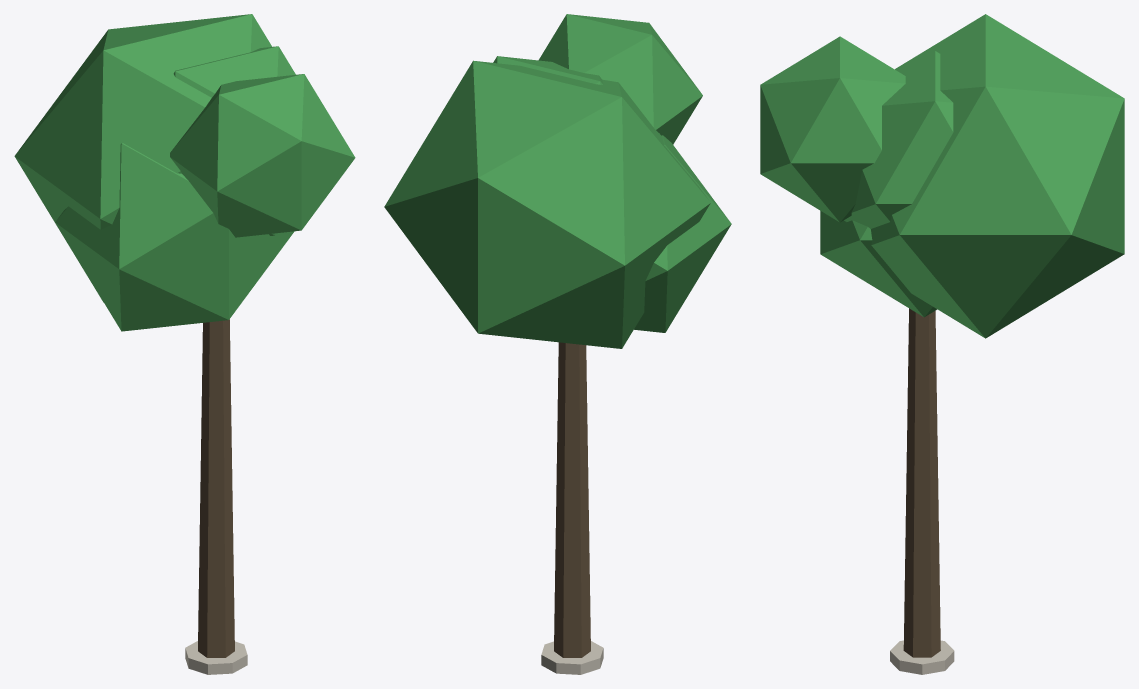
The model's file is street_tree_a.glb.
3 renders of one model, left to right at view 1: azimuth 30°, elevation 25°; view 2: azimuth 150°, elevation 25°; view 3: azimuth 270°, elevation 25°, orthographic.
Parts seen in each view (by area): view 1: tree; view 2: tree; view 3: tree.
Boxes of the visible parts, box(x1,y1,x2,y2) form: tree: box(14, 14, 355, 674); tree: box(384, 14, 731, 674); tree: box(760, 14, 1124, 674).
Bounding box in the file's own units: 4.77 × 11.46 × 6.23.
